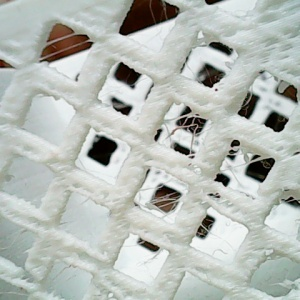3dpstringing: (129, 170, 195, 219), (158, 100, 213, 158), (217, 142, 275, 191), (185, 37, 241, 82), (189, 218, 248, 260), (50, 192, 97, 236), (112, 237, 169, 271), (134, 6, 175, 53), (34, 32, 98, 62), (259, 247, 298, 293), (38, 260, 88, 293), (3, 227, 32, 265)
